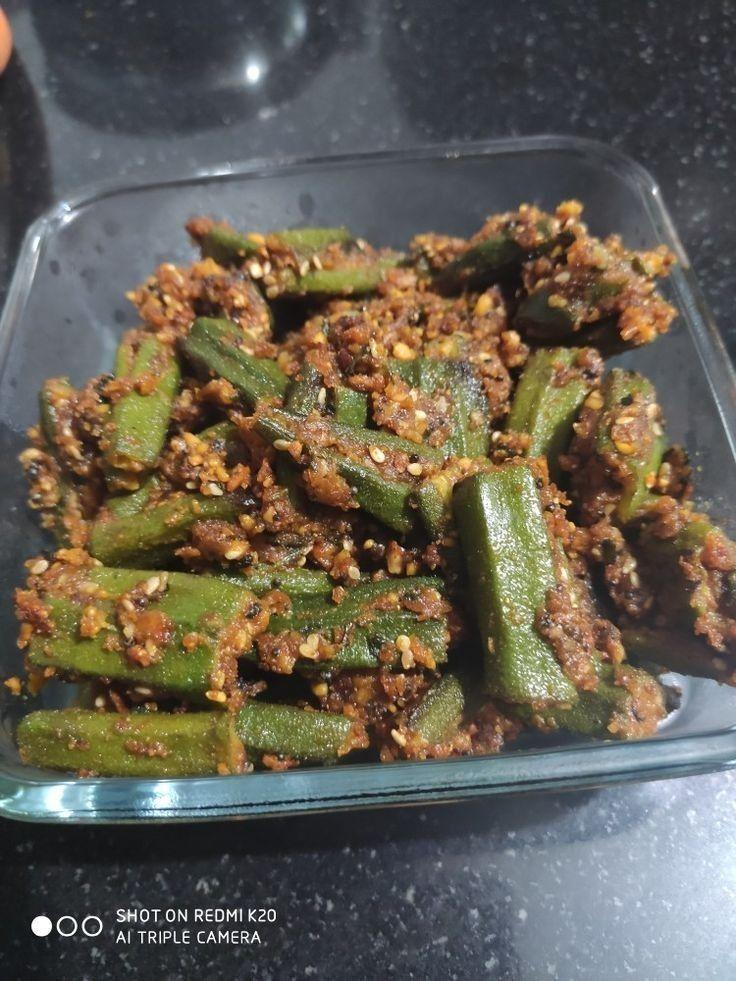bhindi: (126, 266, 679, 743)
